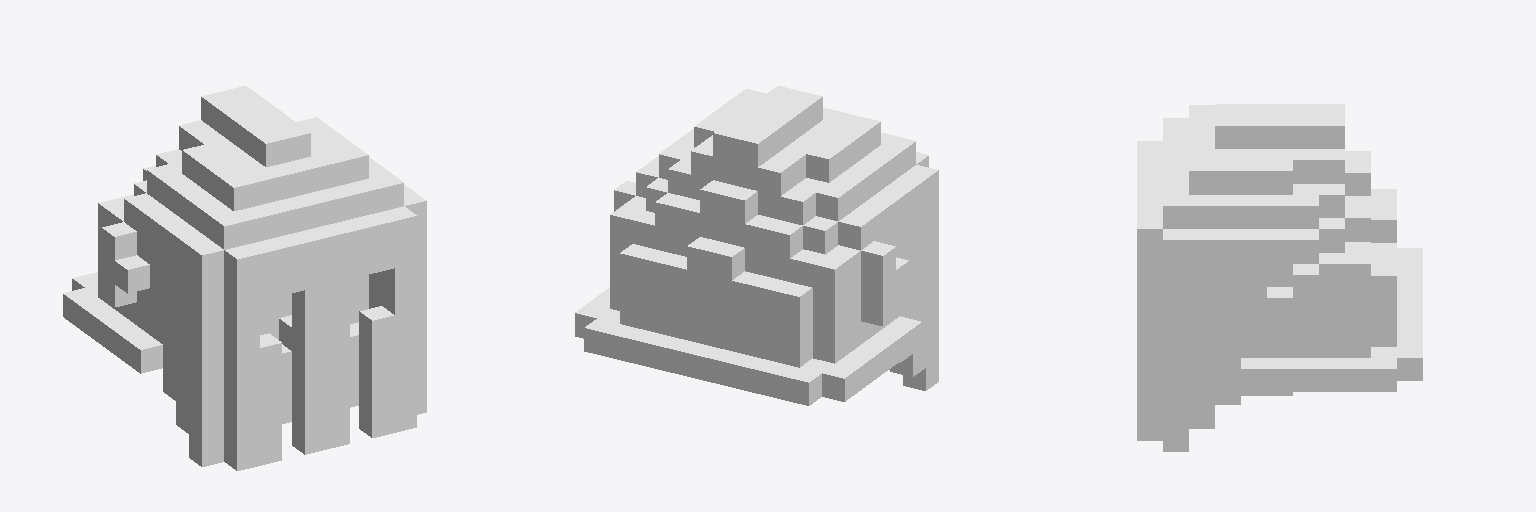
Rendered from gladiator-16.obj.
The picture shows the model from 3 angles: view 1: azimuth 30°, elevation 25°; view 2: azimuth 150°, elevation 25°; view 3: azimuth 270°, elevation 25°; orthographic projection.
Parts seen in each view (by area): view 1: object 1; view 2: object 1; view 3: object 1.
Boxes of the visible parts, x1=… form: object 1: x1=63, y1=86, x2=426, y2=470; object 1: x1=575, y1=86, x2=938, y2=405; object 1: x1=1137, y1=104, x2=1422, y2=451.
Bounding box in the file's own units: 1.2 × 1.2 × 1.1.